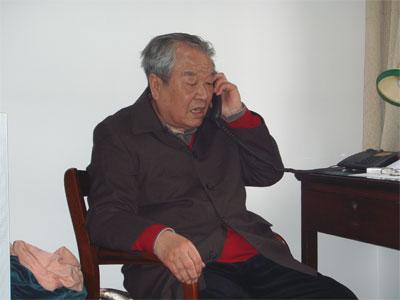person: (85, 33, 359, 300)
